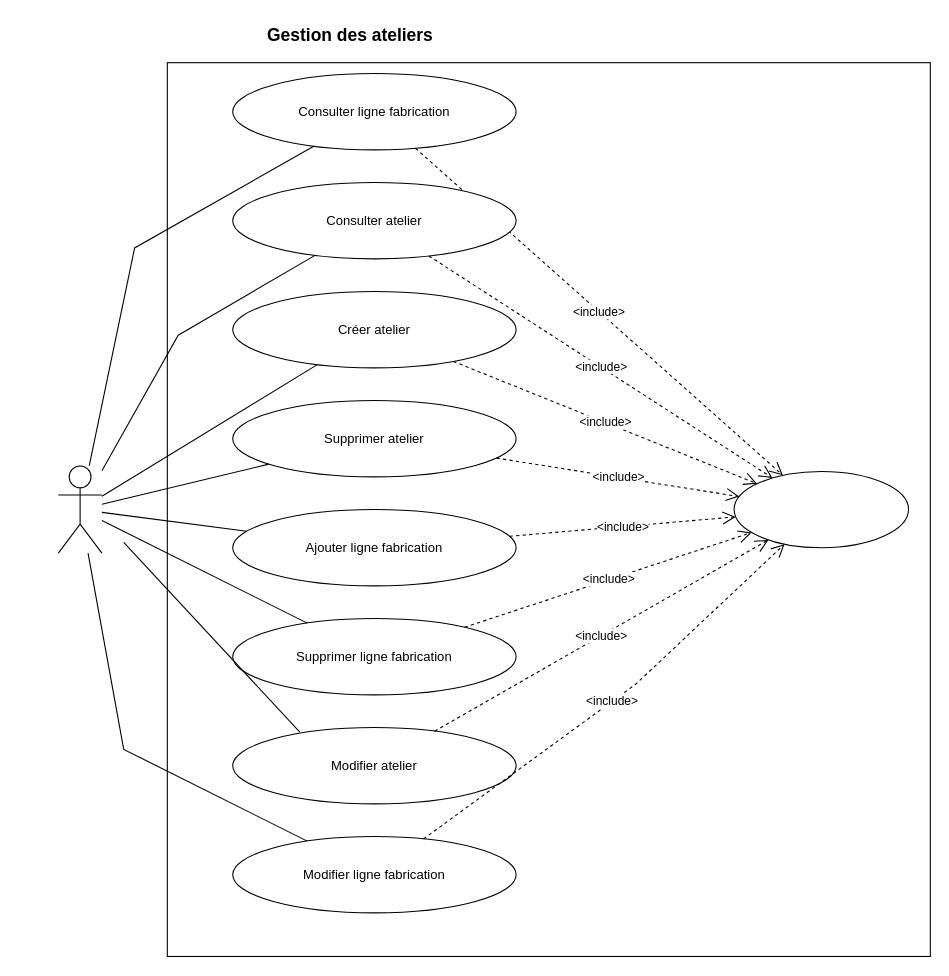
Some shapes in this 949 by 976 pixel diagram are drawn without their labels. Here are the shapes that lost their labels. From the top down, the box of each, then its label:
(57, 465, 102, 553): Responsable ateliers
(733, 470, 909, 548): S'authentifier
